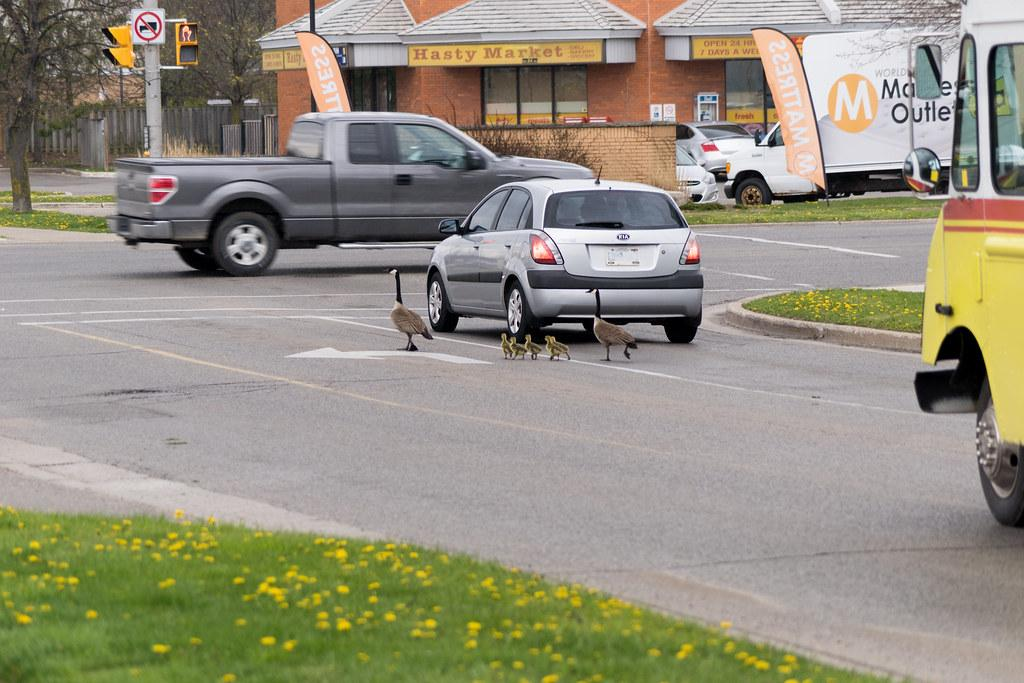car: (106, 111, 606, 280), (426, 177, 705, 345)
